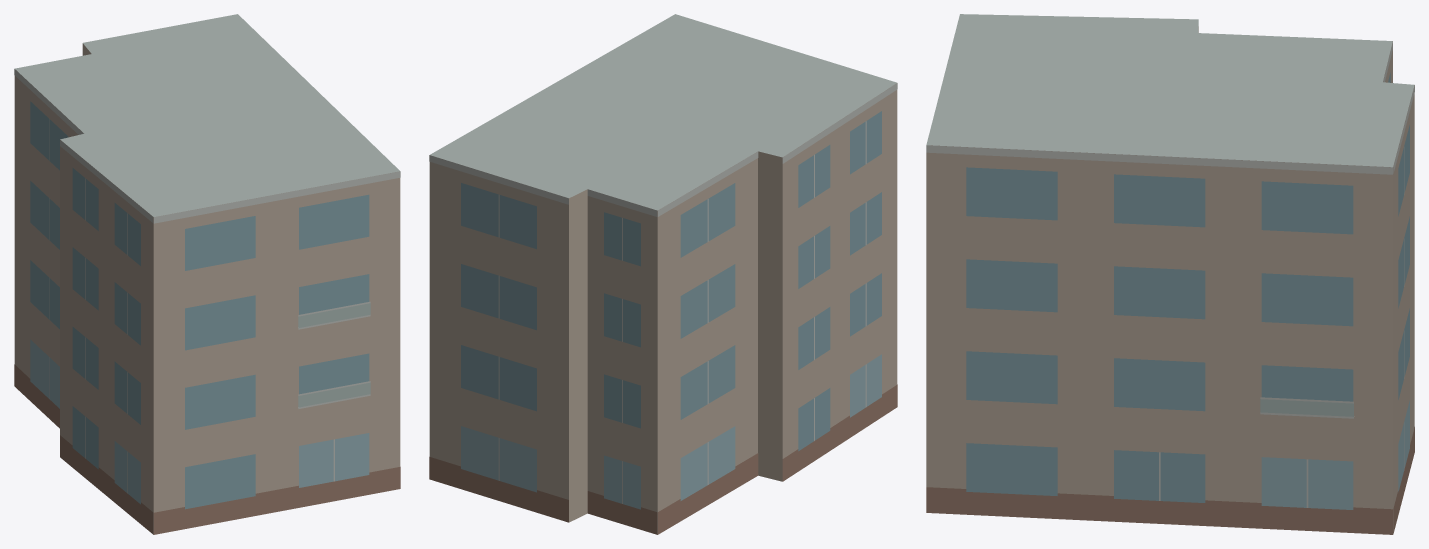
The model's file is survey-upis-32904948.glb.
3 renders of one model, left to right at view 1: azimuth 30°, elevation 25°; view 2: azimuth 150°, elevation 25°; view 3: azimuth 270°, elevation 25°, orthographic. The views are drawn at different scales.
Visible parts, largest first — view 1: survey-upis-32904948.tmp; view 2: survey-upis-32904948.tmp; view 3: survey-upis-32904948.tmp.
Boxes of the visible parts, bbox=[...] form: survey-upis-32904948.tmp: bbox=[14, 14, 400, 534]; survey-upis-32904948.tmp: bbox=[429, 14, 897, 534]; survey-upis-32904948.tmp: bbox=[926, 14, 1414, 534].
Size of the model in its own units: 10.65 by 11.9 by 14.34.
